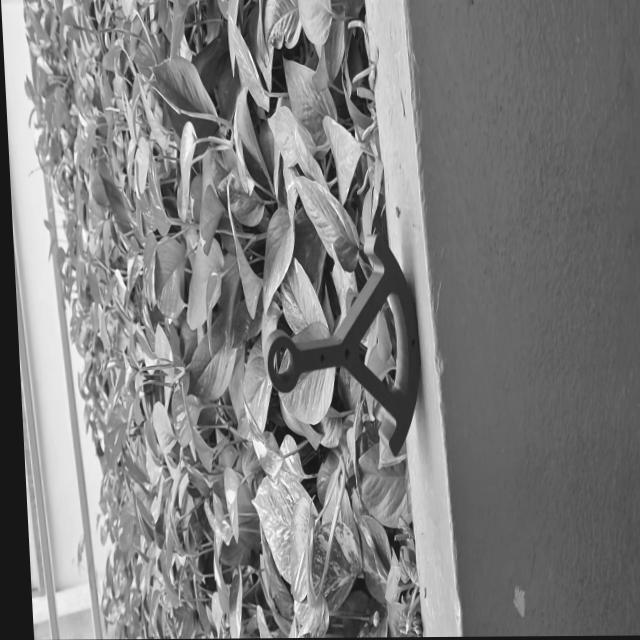haptic: (256, 232, 425, 459)
